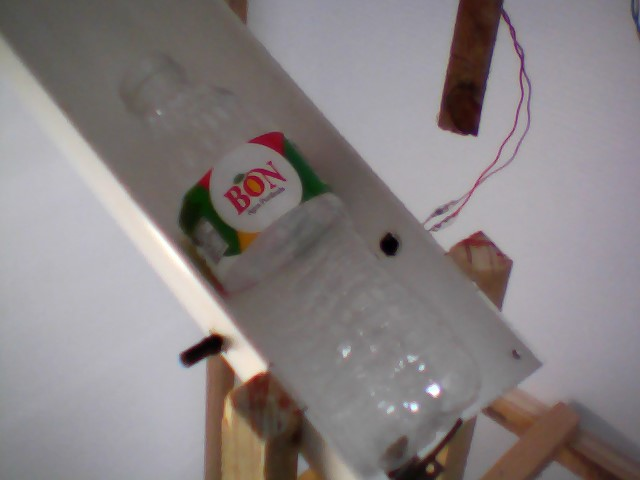plastico: (113, 45, 488, 480)
